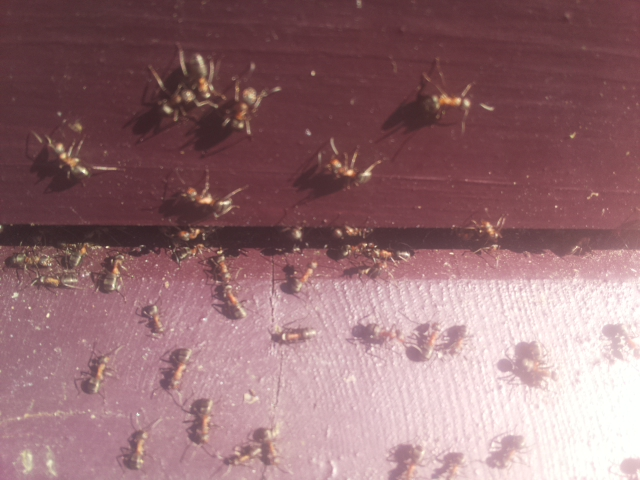ant: (22, 122, 95, 189), (170, 43, 234, 111), (218, 76, 283, 140), (491, 336, 554, 392), (141, 77, 202, 133), (211, 268, 254, 325), (320, 153, 385, 190), (415, 87, 475, 126), (170, 184, 235, 220), (182, 393, 221, 449), (482, 430, 531, 471), (80, 346, 116, 400), (599, 318, 639, 365), (468, 211, 509, 254), (413, 317, 448, 364), (387, 439, 427, 480), (122, 424, 156, 471), (165, 345, 197, 392), (285, 256, 322, 294), (263, 325, 322, 348), (217, 442, 269, 468), (102, 252, 127, 294), (137, 299, 164, 337), (435, 451, 469, 480), (8, 248, 51, 268)
